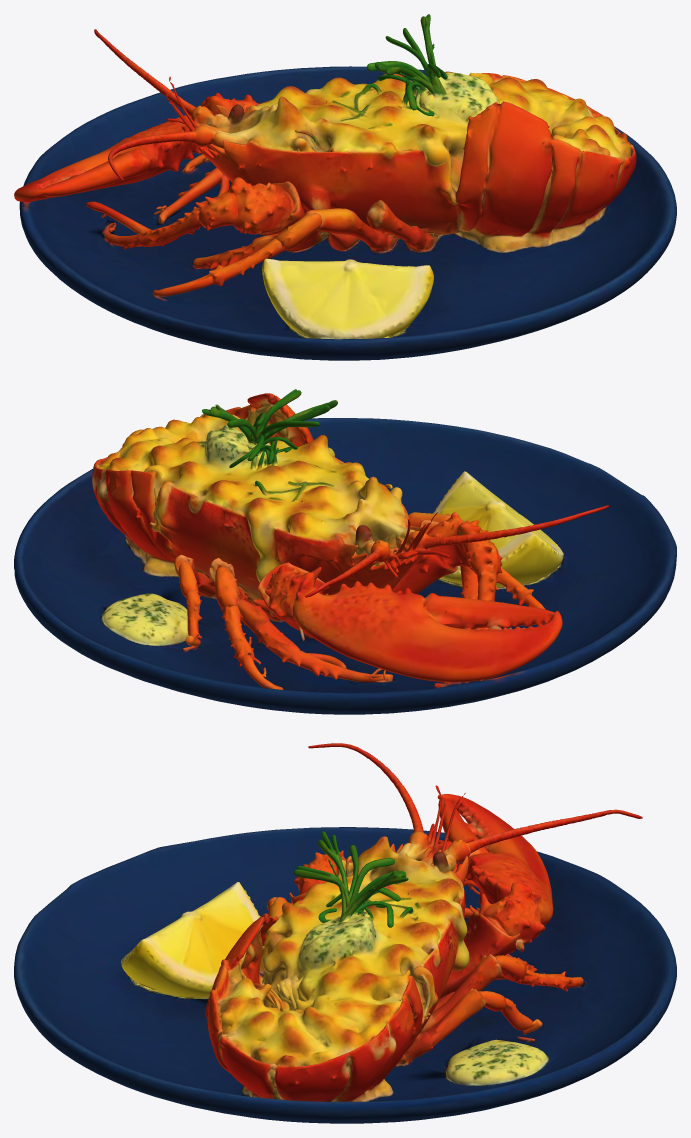
The model's file is lobster-thermidor.glb.
3 renders of one model, top to bottom at view 1: azimuth 30°, elevation 25°; view 2: azimuth 150°, elevation 25°; view 3: azimuth 270°, elevation 25°, orthographic.
Parts seen in each view (by area): view 1: tripo_node_6ab727db-7921-4923-9913-1511d40a9d7a; view 2: tripo_node_6ab727db-7921-4923-9913-1511d40a9d7a; view 3: tripo_node_6ab727db-7921-4923-9913-1511d40a9d7a.
Boxes of the visible parts, <box> form: tripo_node_6ab727db-7921-4923-9913-1511d40a9d7a: <box>14,14,676,360</box>; tripo_node_6ab727db-7921-4923-9913-1511d40a9d7a: <box>14,389,676,714</box>; tripo_node_6ab727db-7921-4923-9913-1511d40a9d7a: <box>14,743,676,1123</box>.
Size of the model in its own units: 0.9766 by 0.3335 by 0.9796.
1 material, 1 textured.
